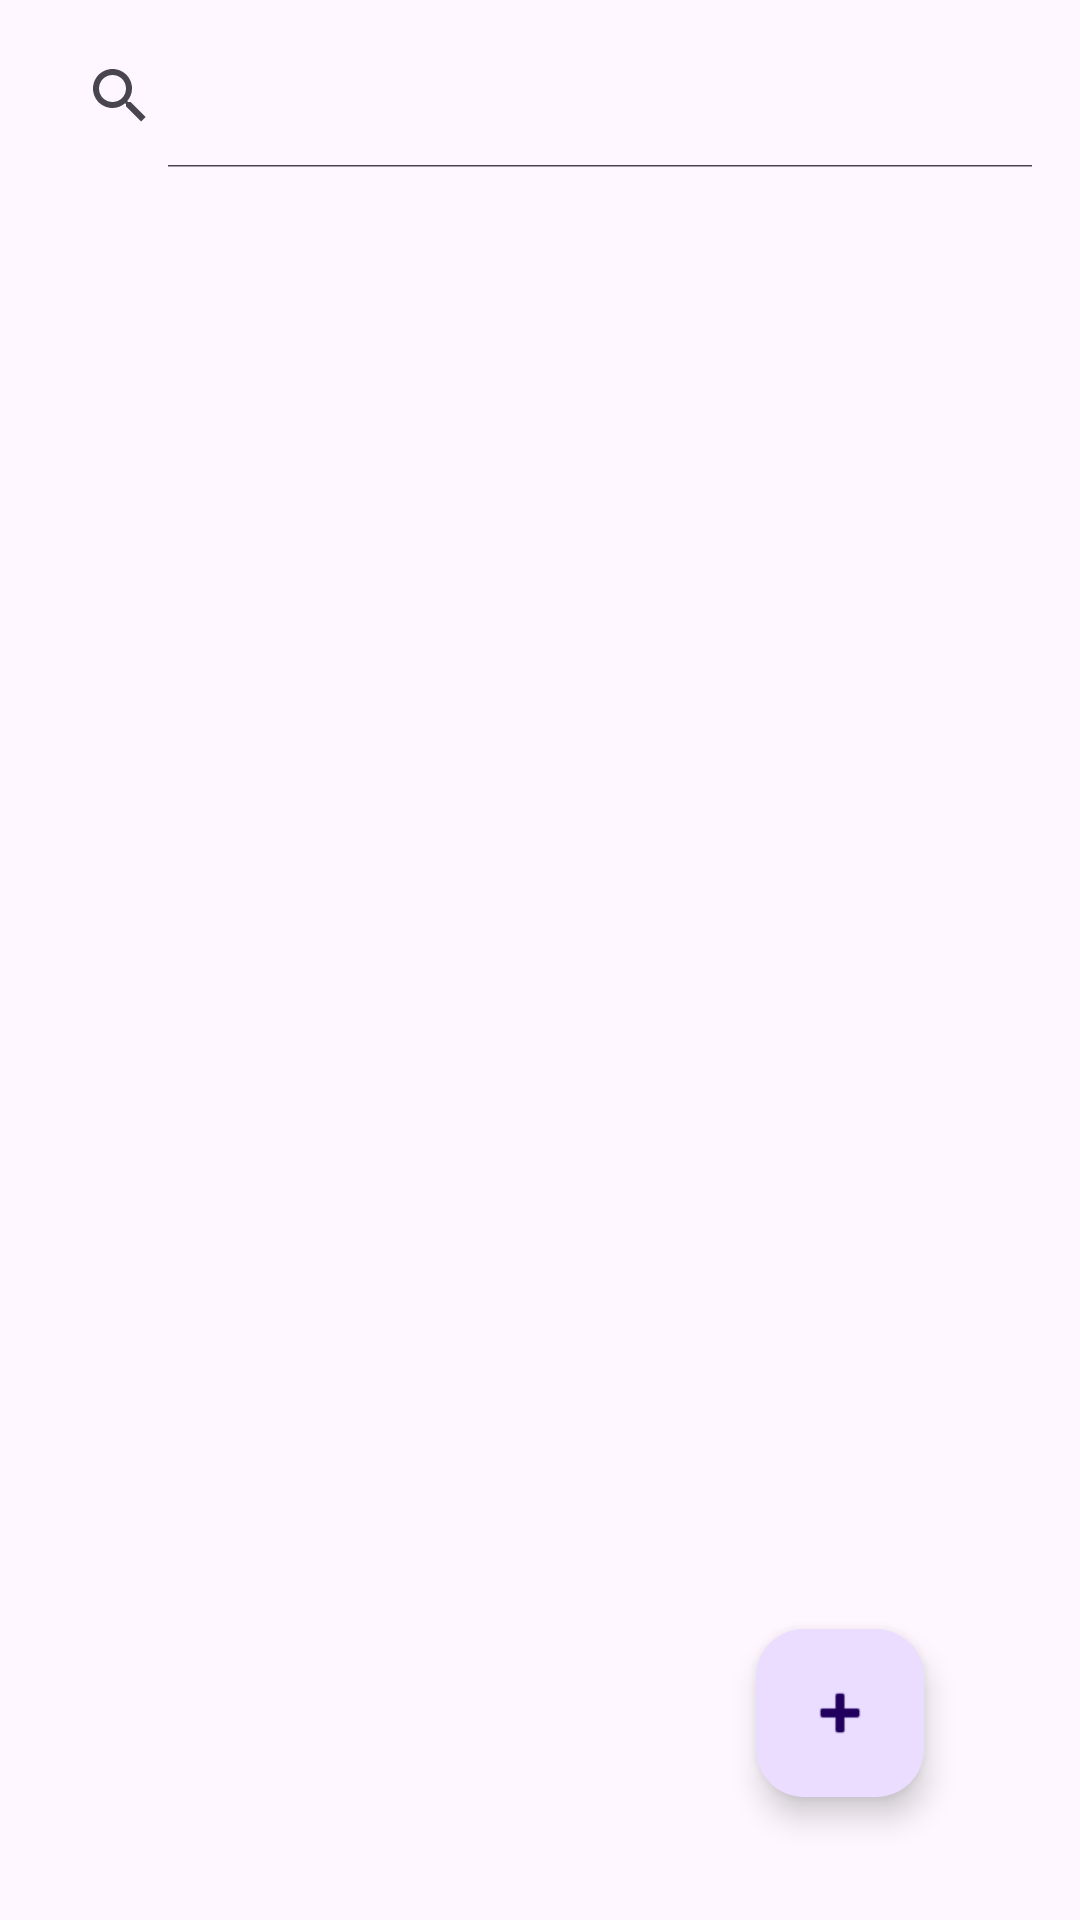

Where icons sit on this 1080w x 1920h app screen, as [left=x1, top=y1, right=x2, bottom=y2]:
add: [left=756, top=1629, right=924, bottom=1797]
